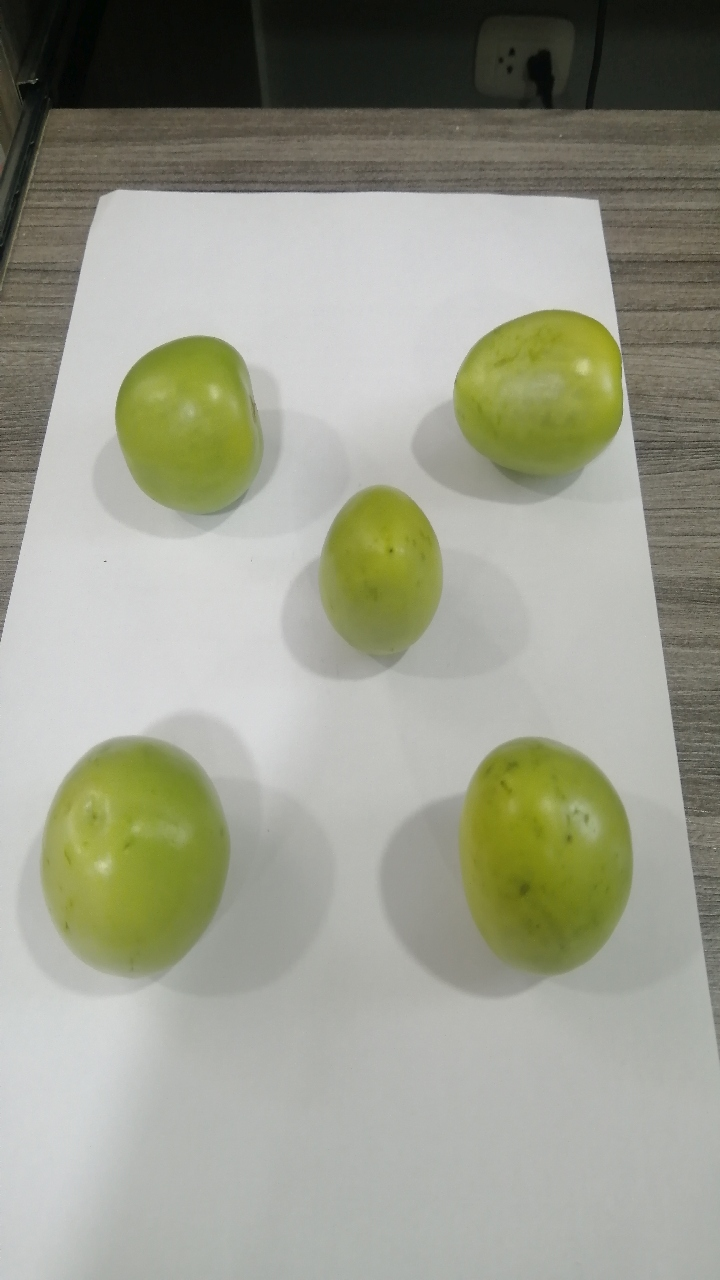tomateVerde: (15, 709, 255, 1005), (432, 706, 651, 979), (431, 291, 657, 514), (92, 314, 288, 537), (309, 462, 463, 668)
